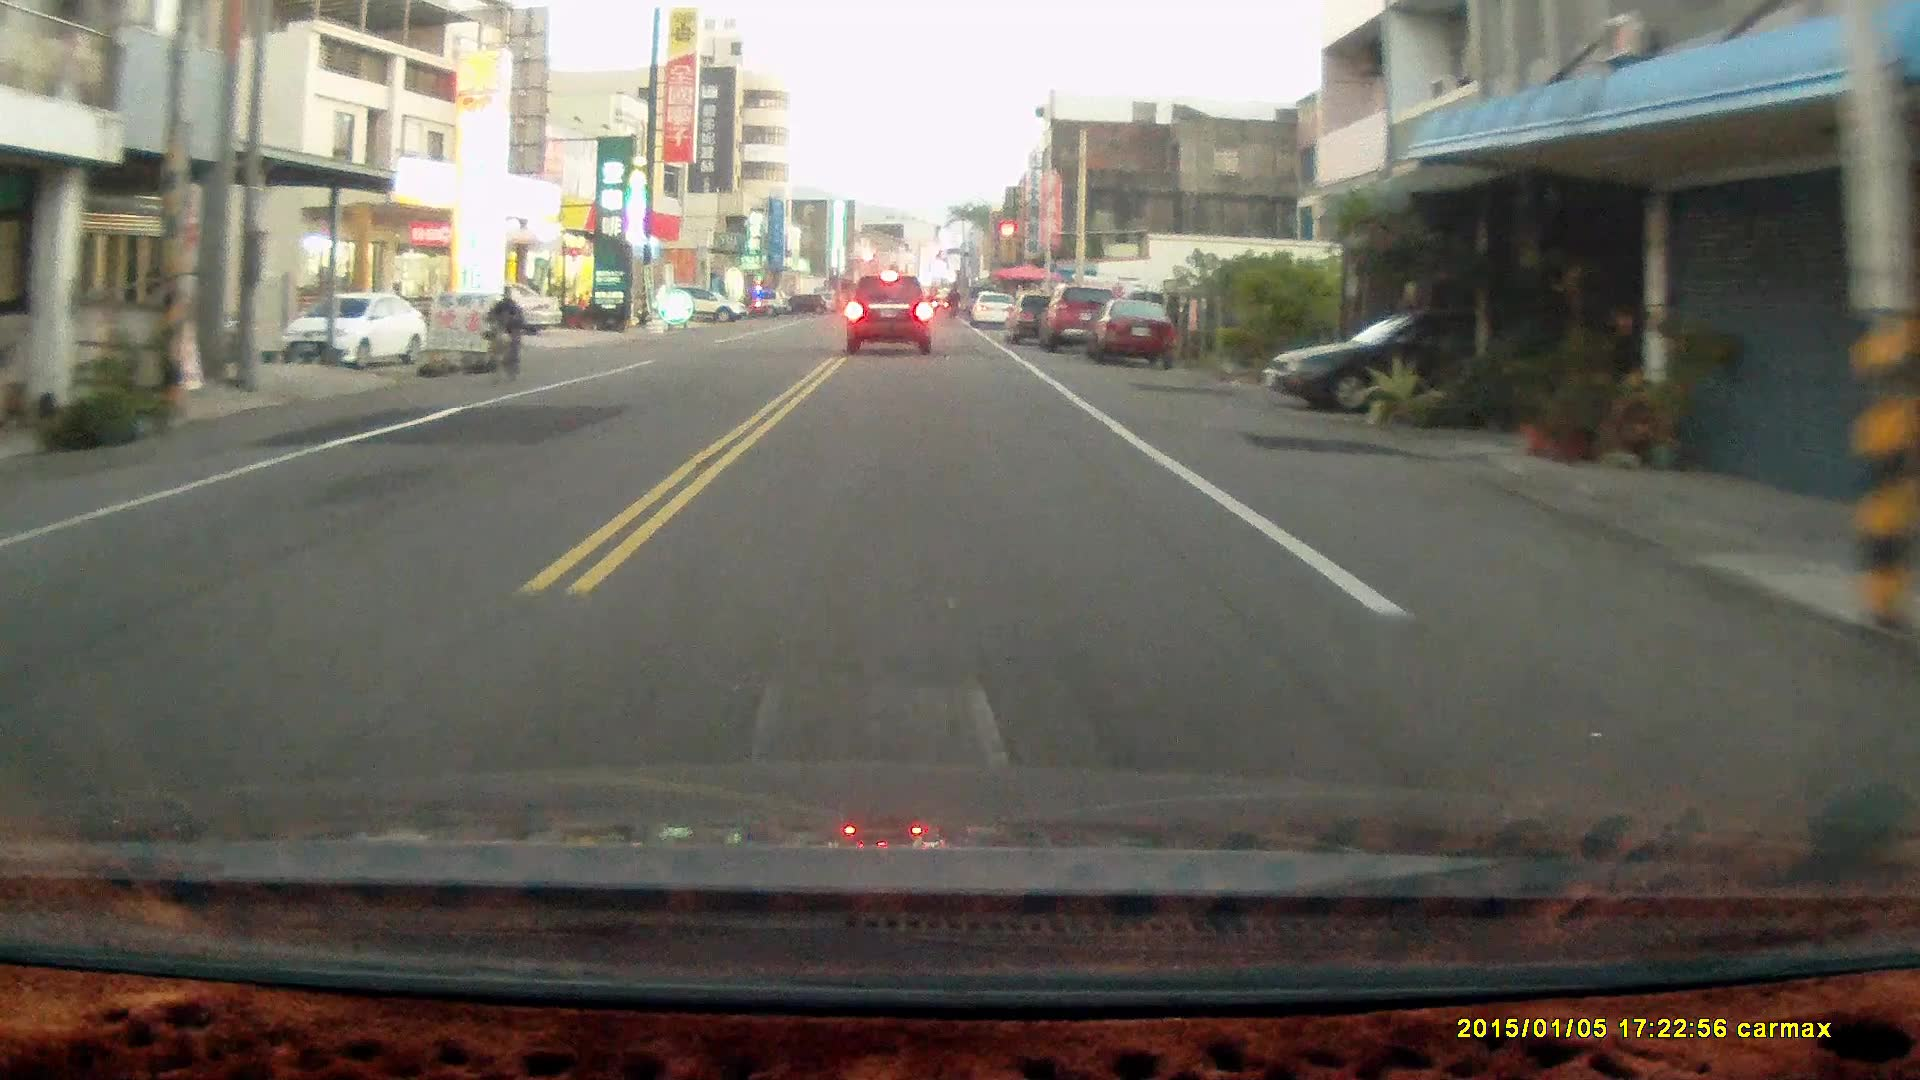rider: (479, 284, 523, 393)
vehicle: (1260, 302, 1601, 410), (280, 292, 425, 370), (426, 282, 566, 340), (842, 269, 937, 352), (1084, 300, 1179, 373), (1041, 282, 1124, 350), (659, 284, 745, 324)
